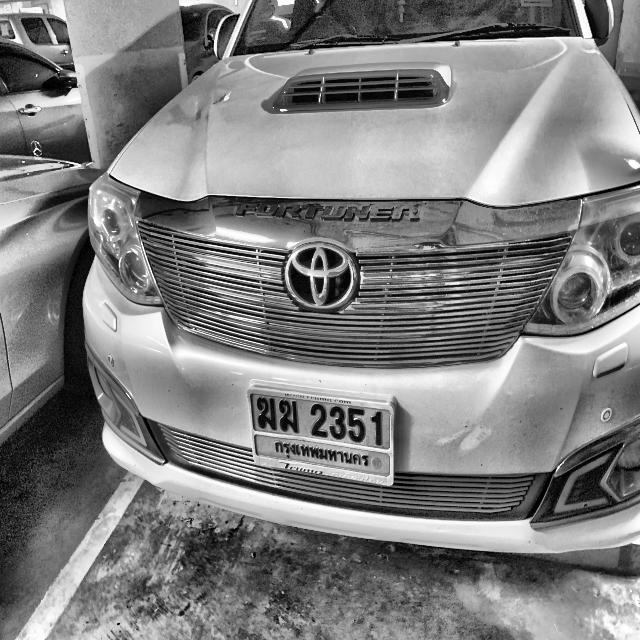license-plate: (246, 376, 398, 488)
